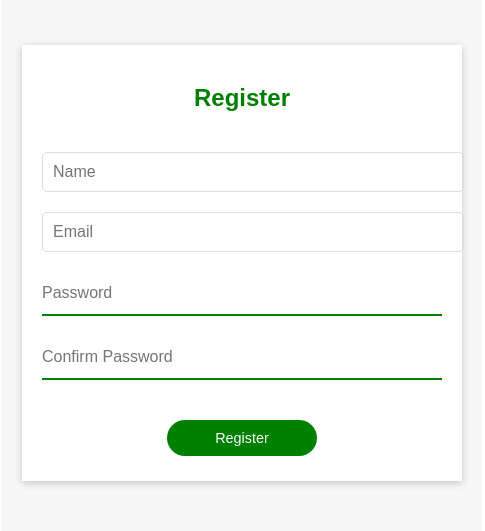
Test: Registration Page › displays an error message for failed registration attempts
In the field with placeholder "Name": (253, 173) [42, 153, 464, 193], type "Test User"
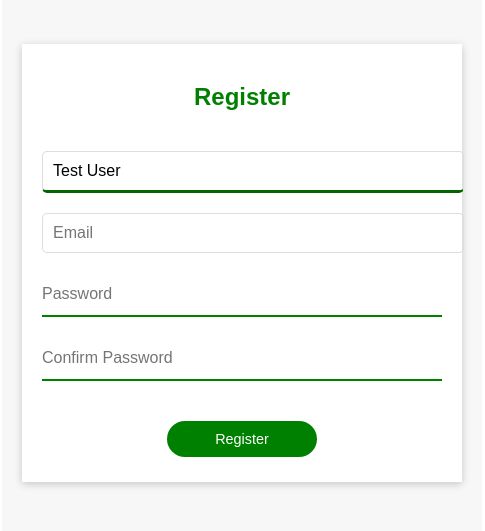
In the field with placeholder "Email": (253, 234) [42, 214, 464, 254], type "existing@example.com"
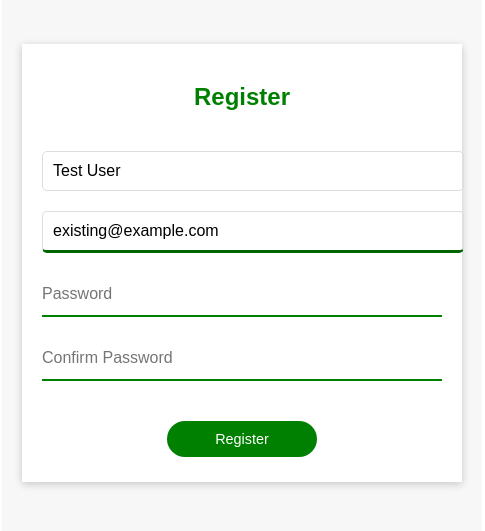
In the password field with placeholder "Password": (242, 296) [42, 274, 442, 318], type "password123"
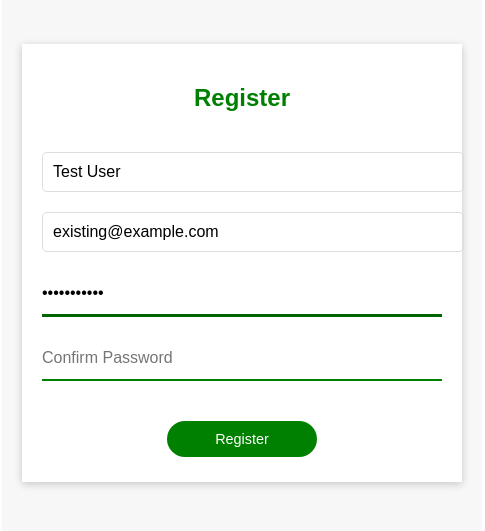
In the password field with placeholder "Confirm Password": (242, 359) [42, 337, 442, 381], type "password123"
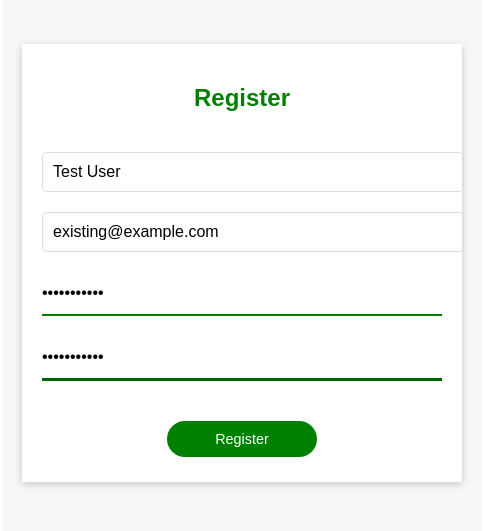
Click the submit button: (242, 439) [167, 421, 317, 457]
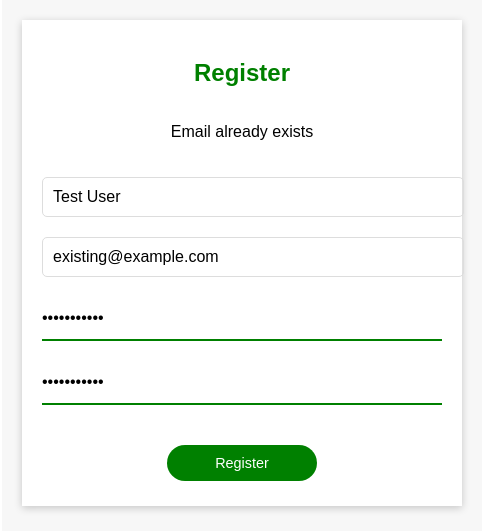
Expected: the text "Email already exists" is shown, [171, 124, 313, 142]
Expected: the text with class "error-message" reads "Email already exists", [171, 123, 313, 140]
